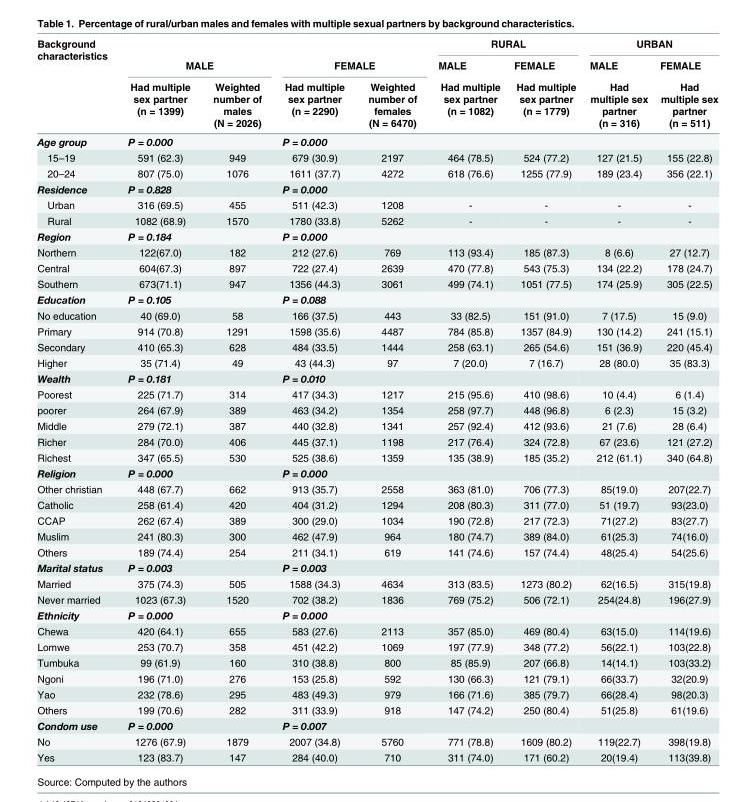table: (36, 37, 717, 762)
table column: (271, 37, 355, 762), (117, 37, 200, 762), (36, 37, 117, 762), (426, 37, 506, 762), (506, 37, 582, 762), (200, 37, 271, 762), (355, 37, 426, 762), (582, 37, 653, 762), (653, 37, 717, 762)
table column header: (36, 37, 717, 131)
table row: (36, 75, 717, 131), (36, 53, 717, 75), (36, 131, 717, 149), (36, 464, 717, 481), (36, 606, 717, 623), (36, 37, 717, 53), (36, 149, 717, 165), (36, 180, 717, 196), (36, 196, 717, 212), (36, 212, 717, 228), (36, 228, 717, 244), (36, 259, 717, 275), (36, 275, 717, 291), (36, 291, 717, 307), (36, 322, 717, 338), (36, 338, 717, 354), (36, 354, 717, 370), (36, 370, 717, 386), (36, 401, 717, 417), (36, 417, 717, 433), (36, 433, 717, 449), (36, 496, 717, 512), (36, 512, 717, 528), (36, 543, 717, 559), (36, 559, 717, 575), (36, 575, 717, 591), (36, 638, 717, 654), (36, 654, 717, 670), (36, 685, 717, 701), (36, 701, 717, 717), (36, 717, 717, 733), (36, 733, 717, 749), (36, 165, 717, 180), (36, 244, 717, 259), (36, 307, 717, 322), (36, 386, 717, 401), (36, 449, 717, 464), (36, 481, 717, 496), (36, 528, 717, 543), (36, 591, 717, 606), (36, 623, 717, 638), (36, 670, 717, 685), (36, 749, 717, 762)
table spanning cell: (36, 37, 117, 131), (426, 53, 506, 131), (506, 53, 582, 131), (582, 53, 653, 131), (653, 53, 717, 131), (271, 53, 426, 75), (117, 53, 271, 75), (271, 131, 426, 149), (117, 131, 271, 149), (271, 464, 426, 481), (271, 606, 426, 623), (117, 464, 271, 481), (117, 606, 271, 623), (426, 37, 582, 53), (271, 180, 426, 196), (271, 228, 426, 244), (271, 291, 426, 307), (271, 370, 426, 386), (271, 559, 426, 575), (271, 717, 426, 733), (117, 180, 271, 196), (117, 228, 271, 244), (117, 291, 271, 307), (117, 370, 271, 386), (117, 559, 271, 575), (117, 717, 271, 733), (582, 37, 717, 53)
